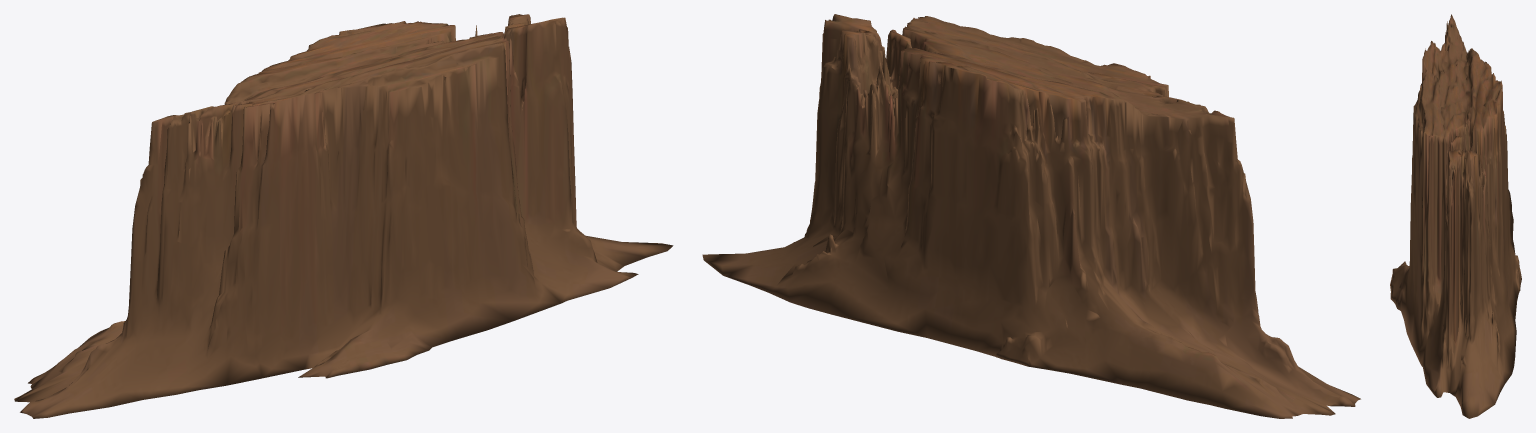
The model's file is ridge.glb.
3 views of the same model, side by side, from view 1: azimuth 30°, elevation 25°; view 2: azimuth 150°, elevation 25°; view 3: azimuth 270°, elevation 25° (orthographic). The views are drawn at different scales.
Visible parts, largest first — view 1: Desert Canyon Cliff Terrain; view 2: Desert Canyon Cliff Terrain; view 3: Desert Canyon Cliff Terrain.
Boxes of the visible parts, box(x1,y1,x2,y2) form: Desert Canyon Cliff Terrain: box(14, 14, 673, 418); Desert Canyon Cliff Terrain: box(702, 14, 1360, 418); Desert Canyon Cliff Terrain: box(1390, 14, 1521, 418).
Size of the model in its own units: 70.91 by 28.2 by 15.8.
1 material, 1 textured.
